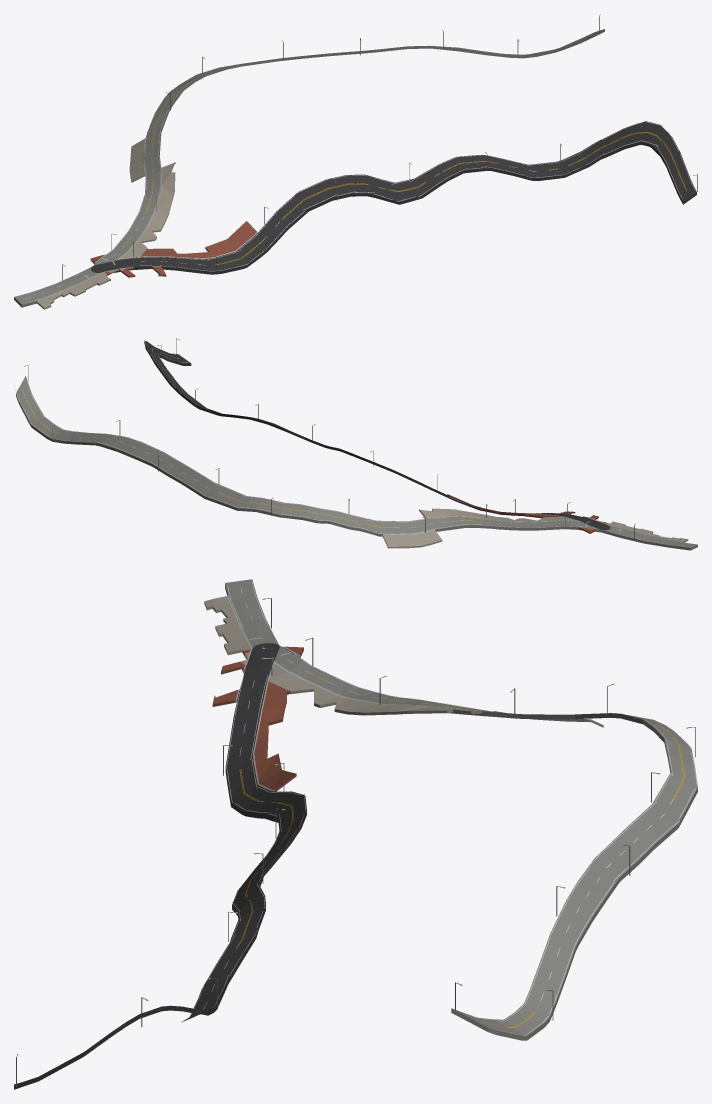
3 renders of one model, top to bottom at view 1: azimuth 30°, elevation 25°; view 2: azimuth 150°, elevation 25°; view 3: azimuth 270°, elevation 25°, orthographic. The views are drawn at different scales.
Size of the model in its own units: 295 by 44.08 by 155.
